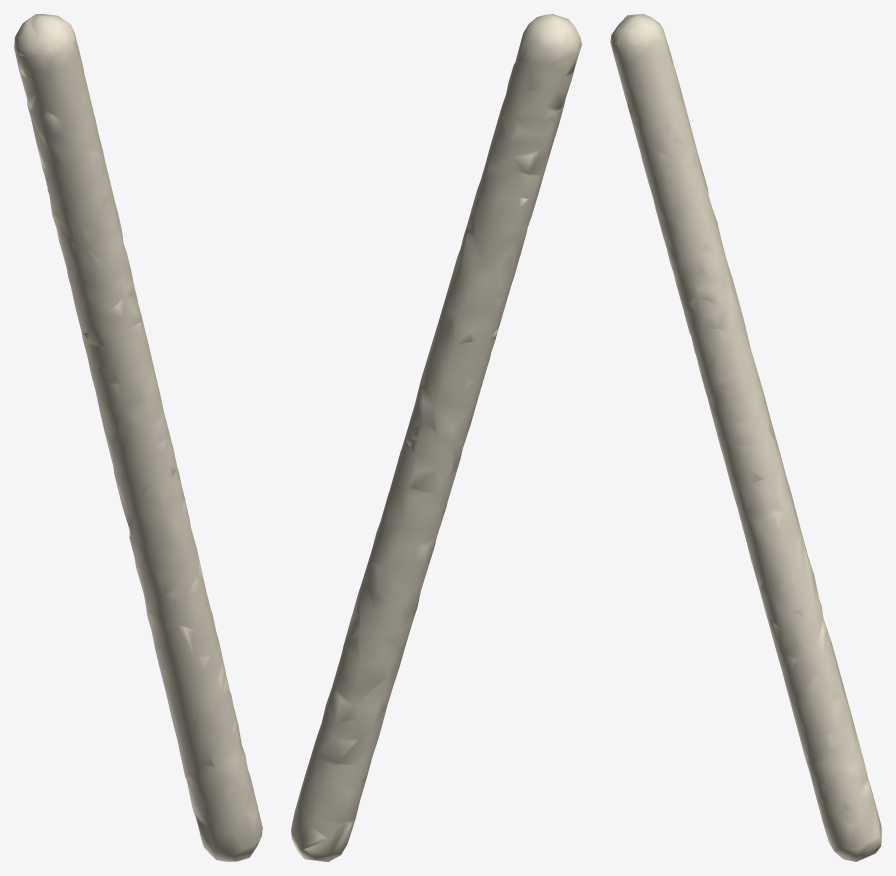
File: fibula_l.glb
The picture shows the model from 3 angles, left to right: view 1: azimuth 30°, elevation 25°; view 2: azimuth 150°, elevation 25°; view 3: azimuth 330°, elevation 25°; orthographic projection. The views are drawn at different scales.
Parts seen in each view (by area): view 1: geometry_0; view 2: geometry_0; view 3: geometry_0.
Boxes of the visible parts, x1,y1,x2,y2 form: geometry_0: (14,14,262,861); geometry_0: (291,14,581,861); geometry_0: (610,14,881,861).
Bounding box in the file's own units: 0.1899 × 0.6141 × 0.0743.
